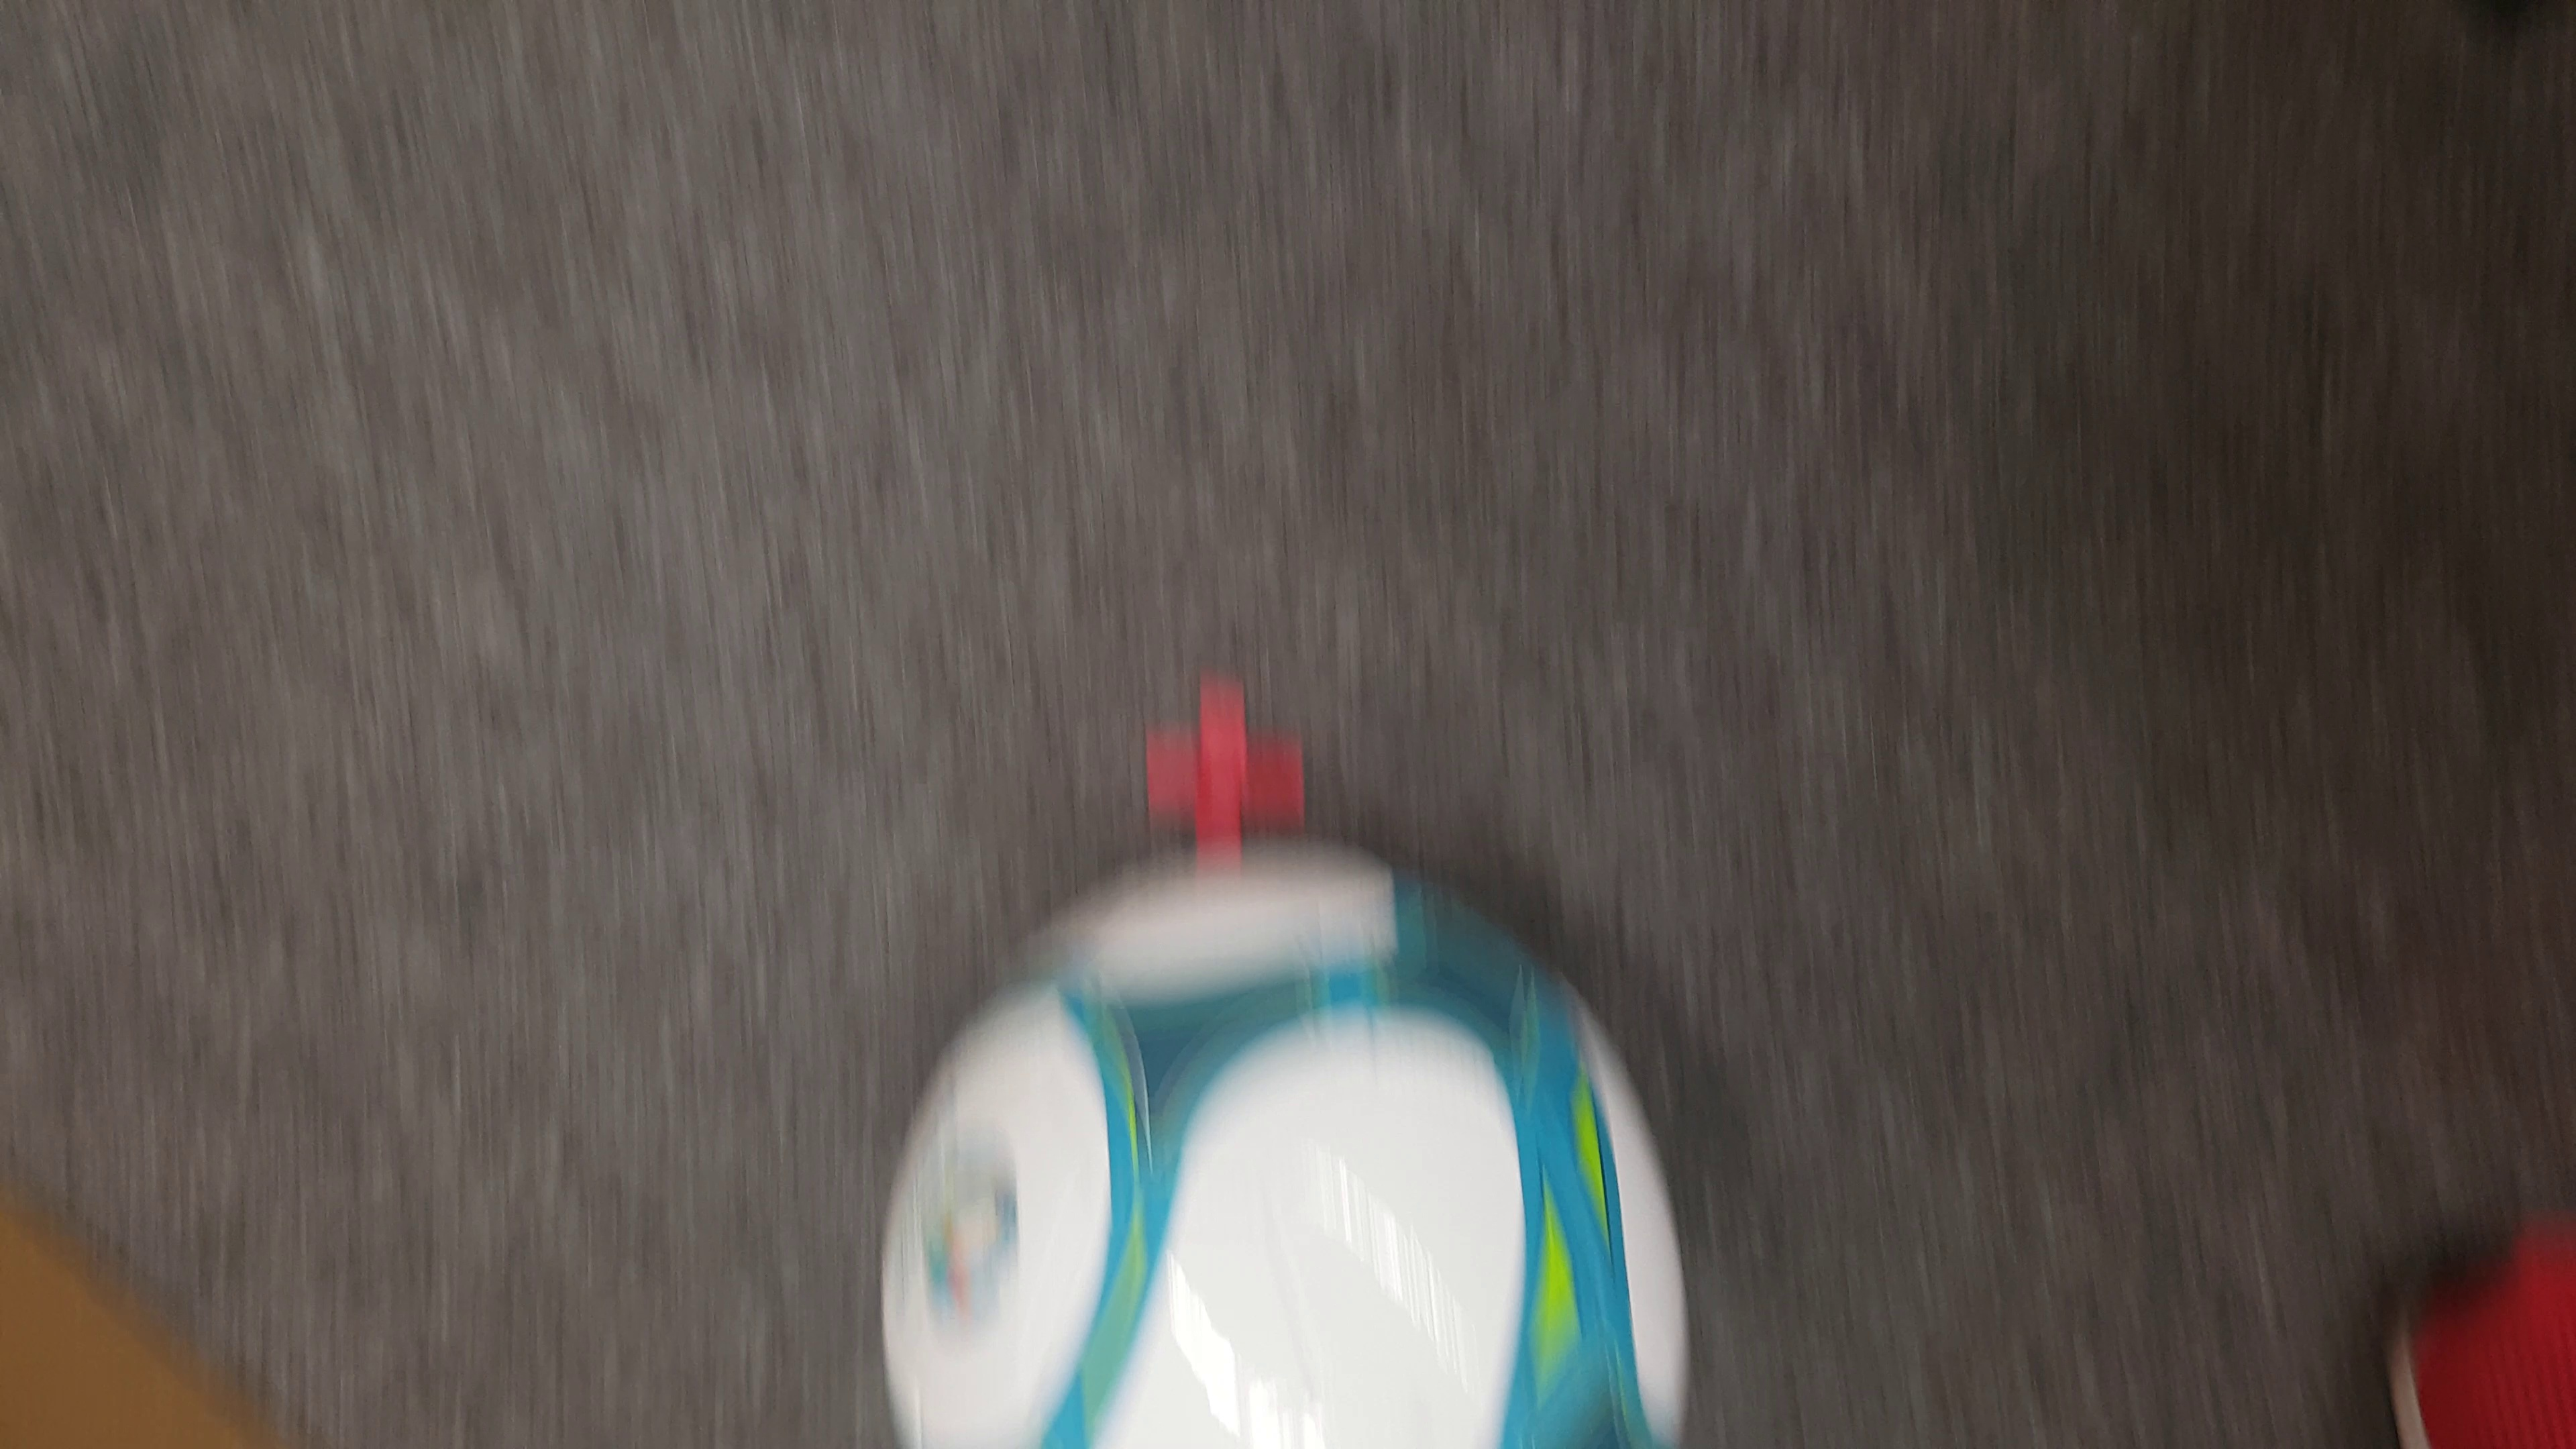kick: (881, 847, 1683, 1449)
